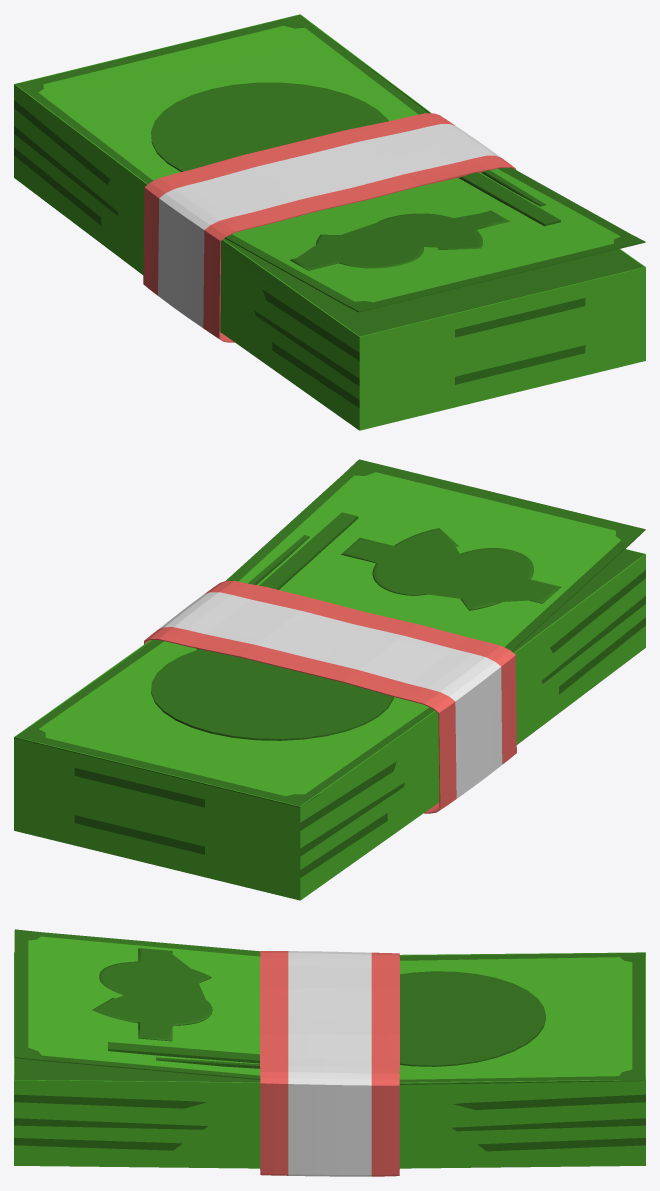
Rendered from money stack.fbx.
3 renders of one model, top to bottom at view 1: azimuth 30°, elevation 25°; view 2: azimuth 150°, elevation 25°; view 3: azimuth 270°, elevation 25°, orthographic. The views are drawn at different scales.
Visible parts, largest first — view 1: Dollar .017; view 2: Dollar .017; view 3: Dollar .017.
Boxes of the visible parts, box(x1,y1,x2,y2) form: Dollar .017: box(14, 14, 645, 430); Dollar .017: box(14, 459, 645, 900); Dollar .017: box(14, 929, 645, 1176).
Bounding box in the file's own units: 4.38 × 1.88 × 8.74.
